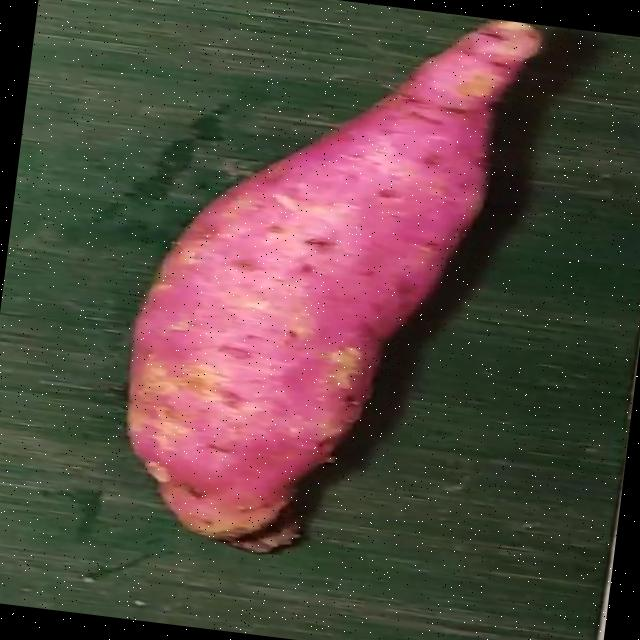Sweet Potato: (122, 18, 540, 553)
